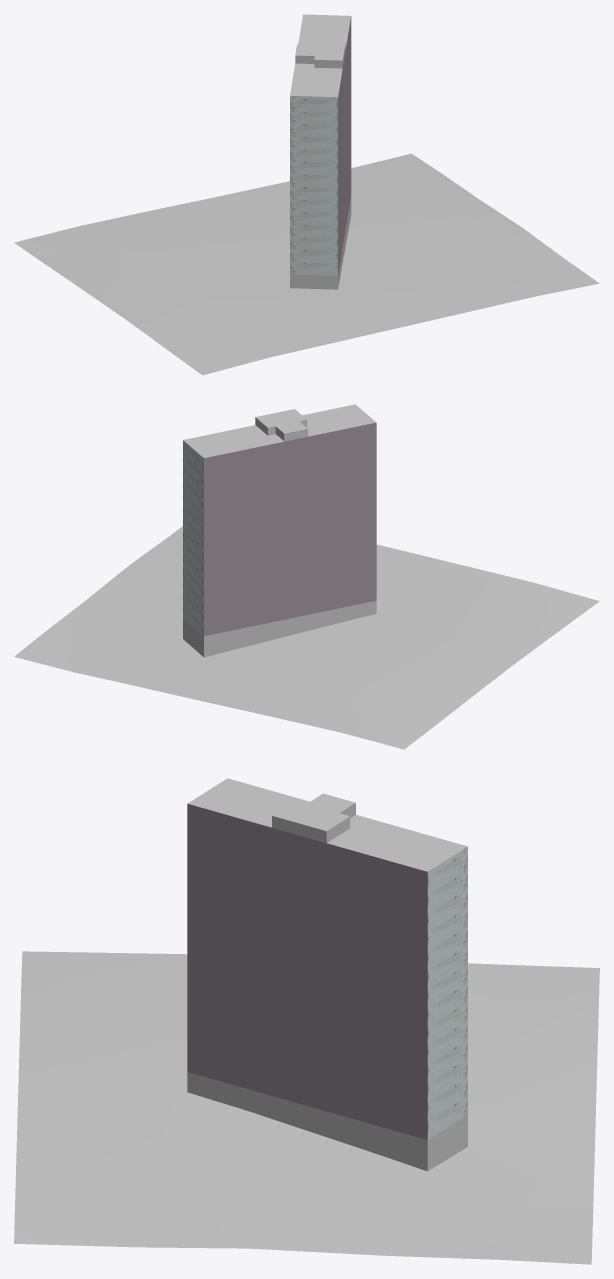
File: predio05.fbx
3 renders of one model, top to bottom at view 1: azimuth 30°, elevation 25°; view 2: azimuth 150°, elevation 25°; view 3: azimuth 270°, elevation 25°, orthographic. The views are drawn at different scales.
Visible parts, largest first — view 1: Google_Earth_Terrain, Model; view 2: Google_Earth_Terrain, Model; view 3: Google_Earth_Terrain, Model.
Part boxes in pixels (x1,y1,x2,y2): Google_Earth_Terrain: (14,153,599,375); Model: (290,14,351,289); Google_Earth_Terrain: (14,526,599,749); Model: (183,404,376,657); Google_Earth_Terrain: (14,951,599,1264); Model: (187,778,467,1171).
Size of the model in its own units: 105 by 53.89 by 89.08.
